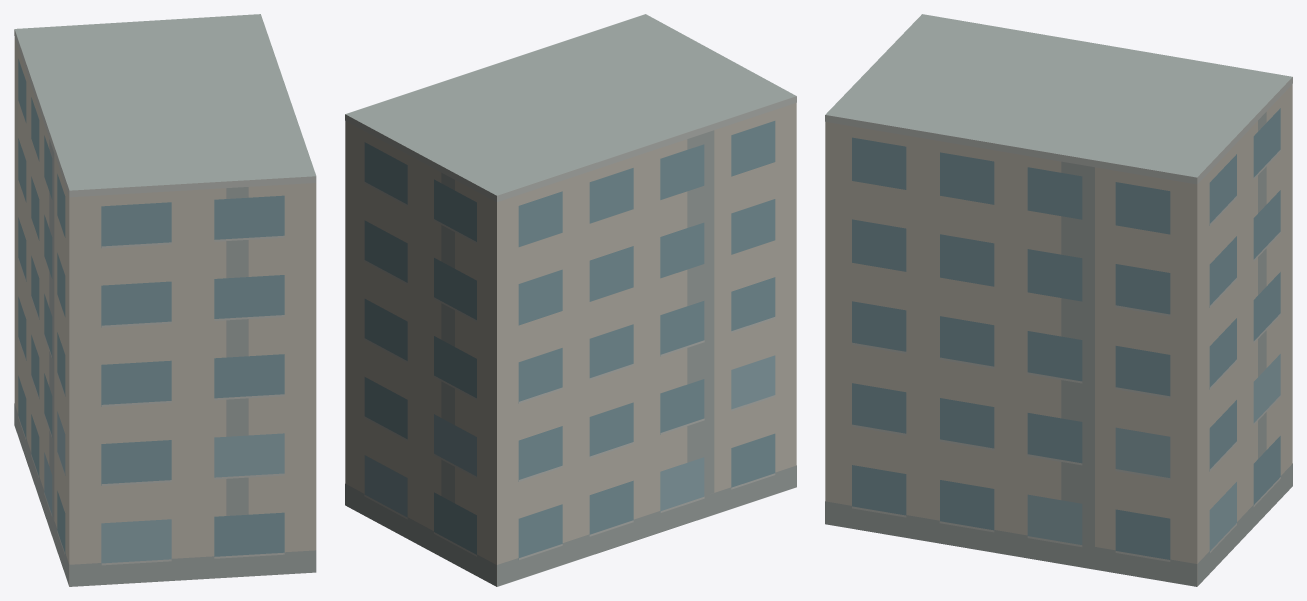
File: survey-upis-32804148.glb
The picture shows the model from 3 angles, left to right: view 1: azimuth 30°, elevation 25°; view 2: azimuth 150°, elevation 25°; view 3: azimuth 270°, elevation 25°; orthographic projection. The views are drawn at different scales.
Parts seen in each view (by area): view 1: survey-upis-32804148.tmp; view 2: survey-upis-32804148.tmp; view 3: survey-upis-32804148.tmp.
Boxes of the visible parts, left/top/right/bottom form: survey-upis-32804148.tmp: left=14, top=14, right=316, bottom=586; survey-upis-32804148.tmp: left=345, top=14, right=796, bottom=586; survey-upis-32804148.tmp: left=825, top=14, right=1292, bottom=586.
Bounding box in the file's own units: 12.39 × 14.45 × 14.97.
